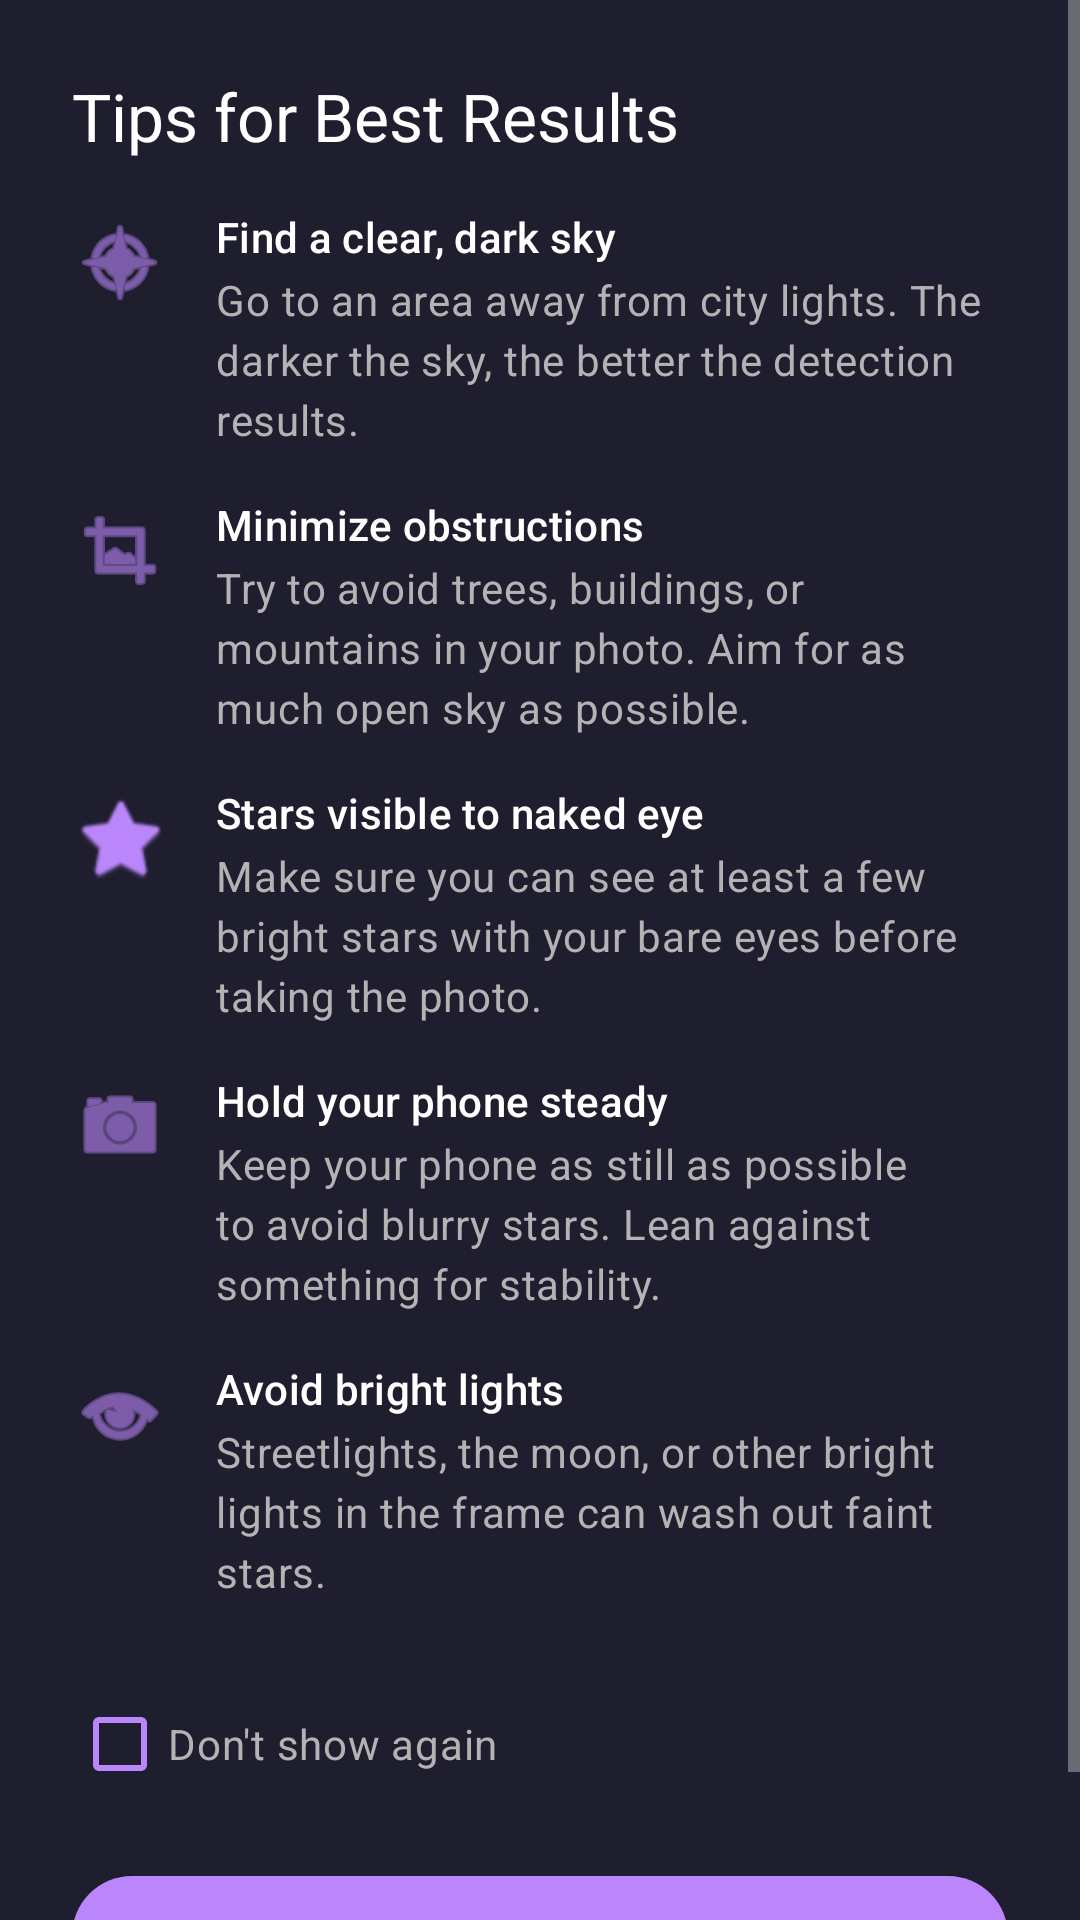

Icon bounding boxes for this 1080*1920 phone screenshot, format (x1, y1, x2, y2):
Bright lights tip icon: (81, 1392, 159, 1441)
Dark sky tip icon: (82, 225, 158, 300)
Steady phone tip icon: (83, 1095, 157, 1154)
Visible stars tip icon: (81, 800, 161, 878)
